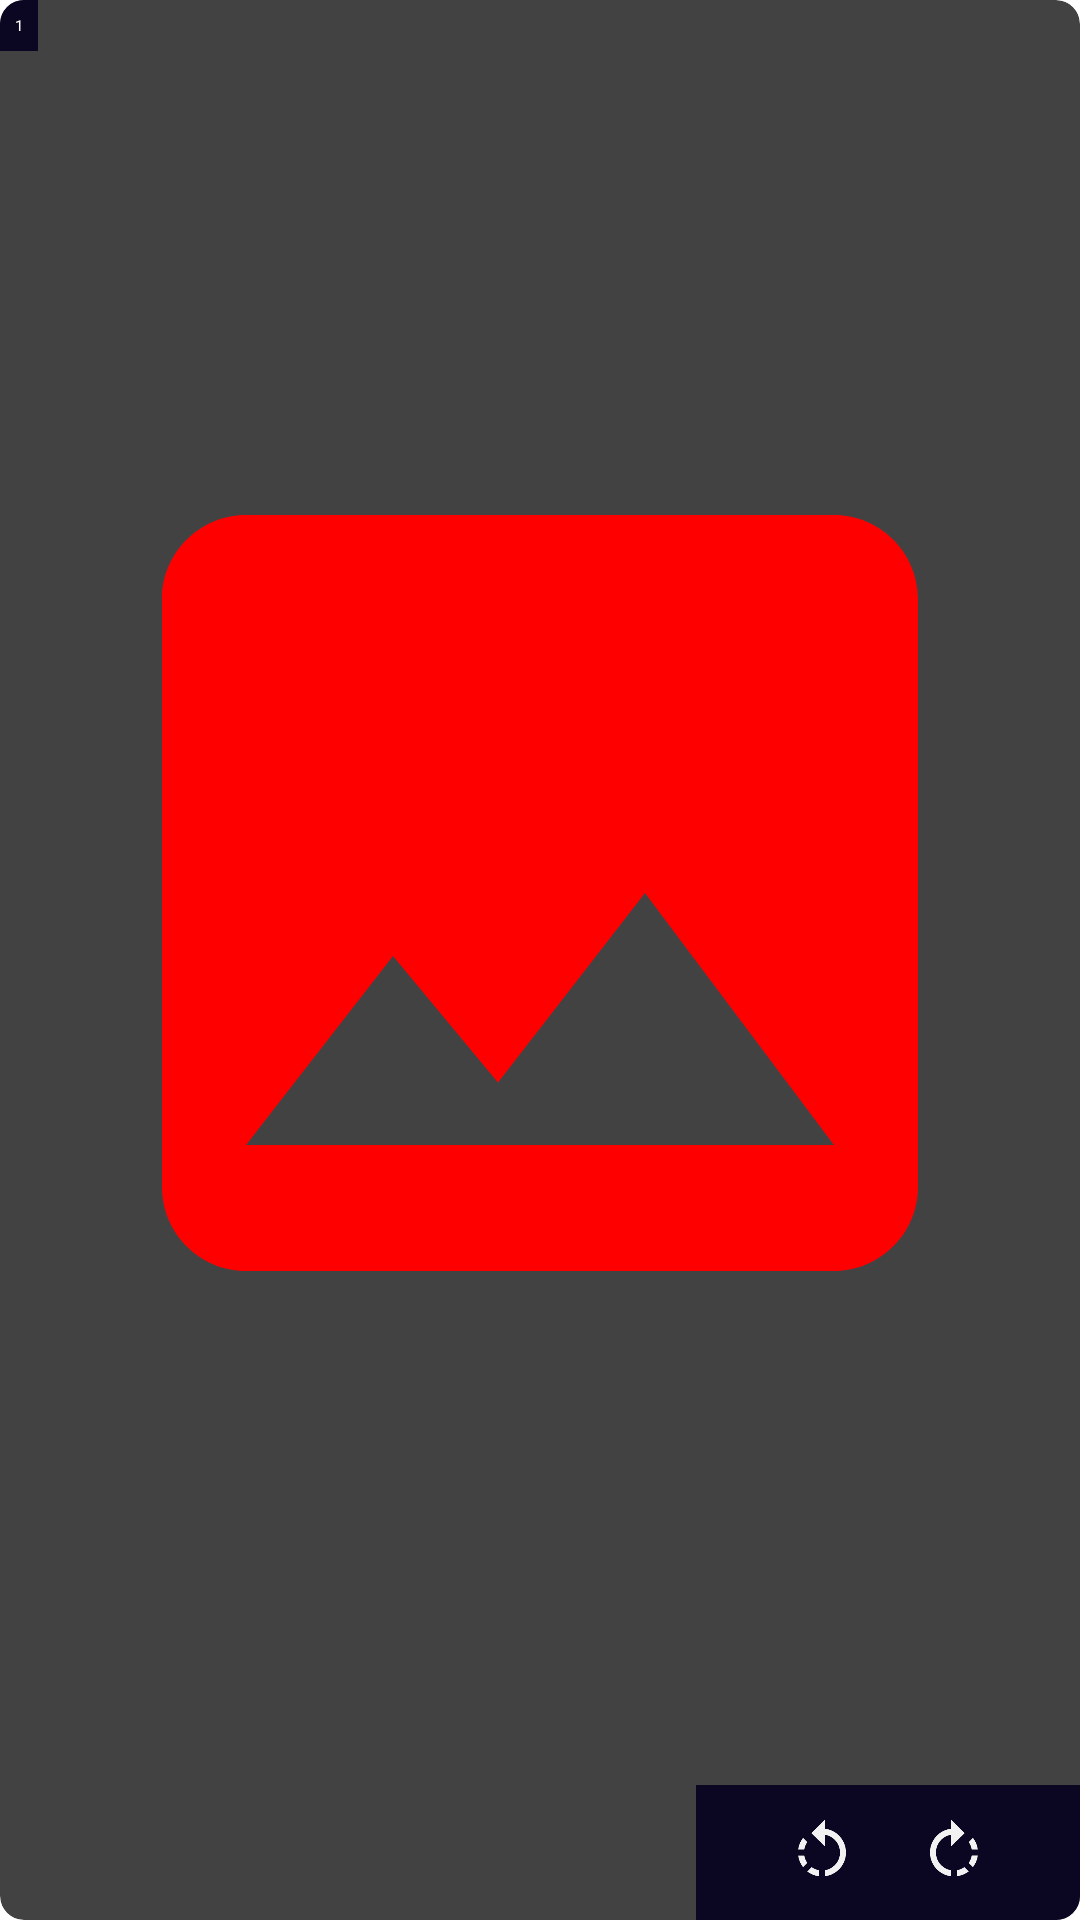

Named icons in this screenshot (1080×1920) and their centers, (x,y):
rotate left: (822,1848)
rotate right: (954,1848)
